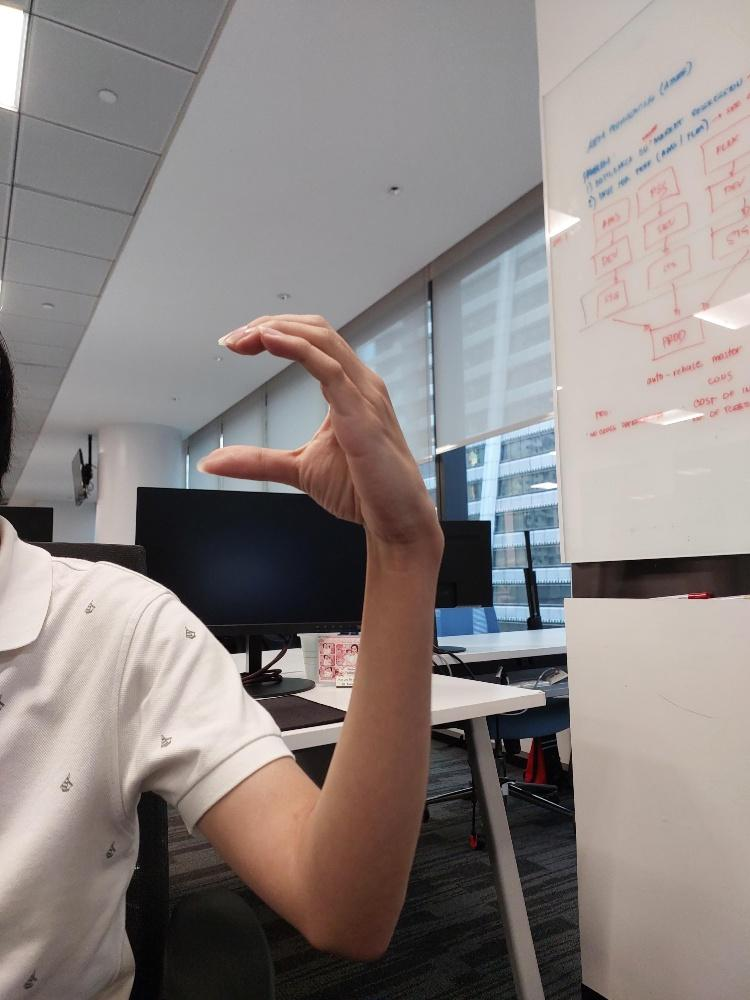c: (191, 309, 446, 544)
